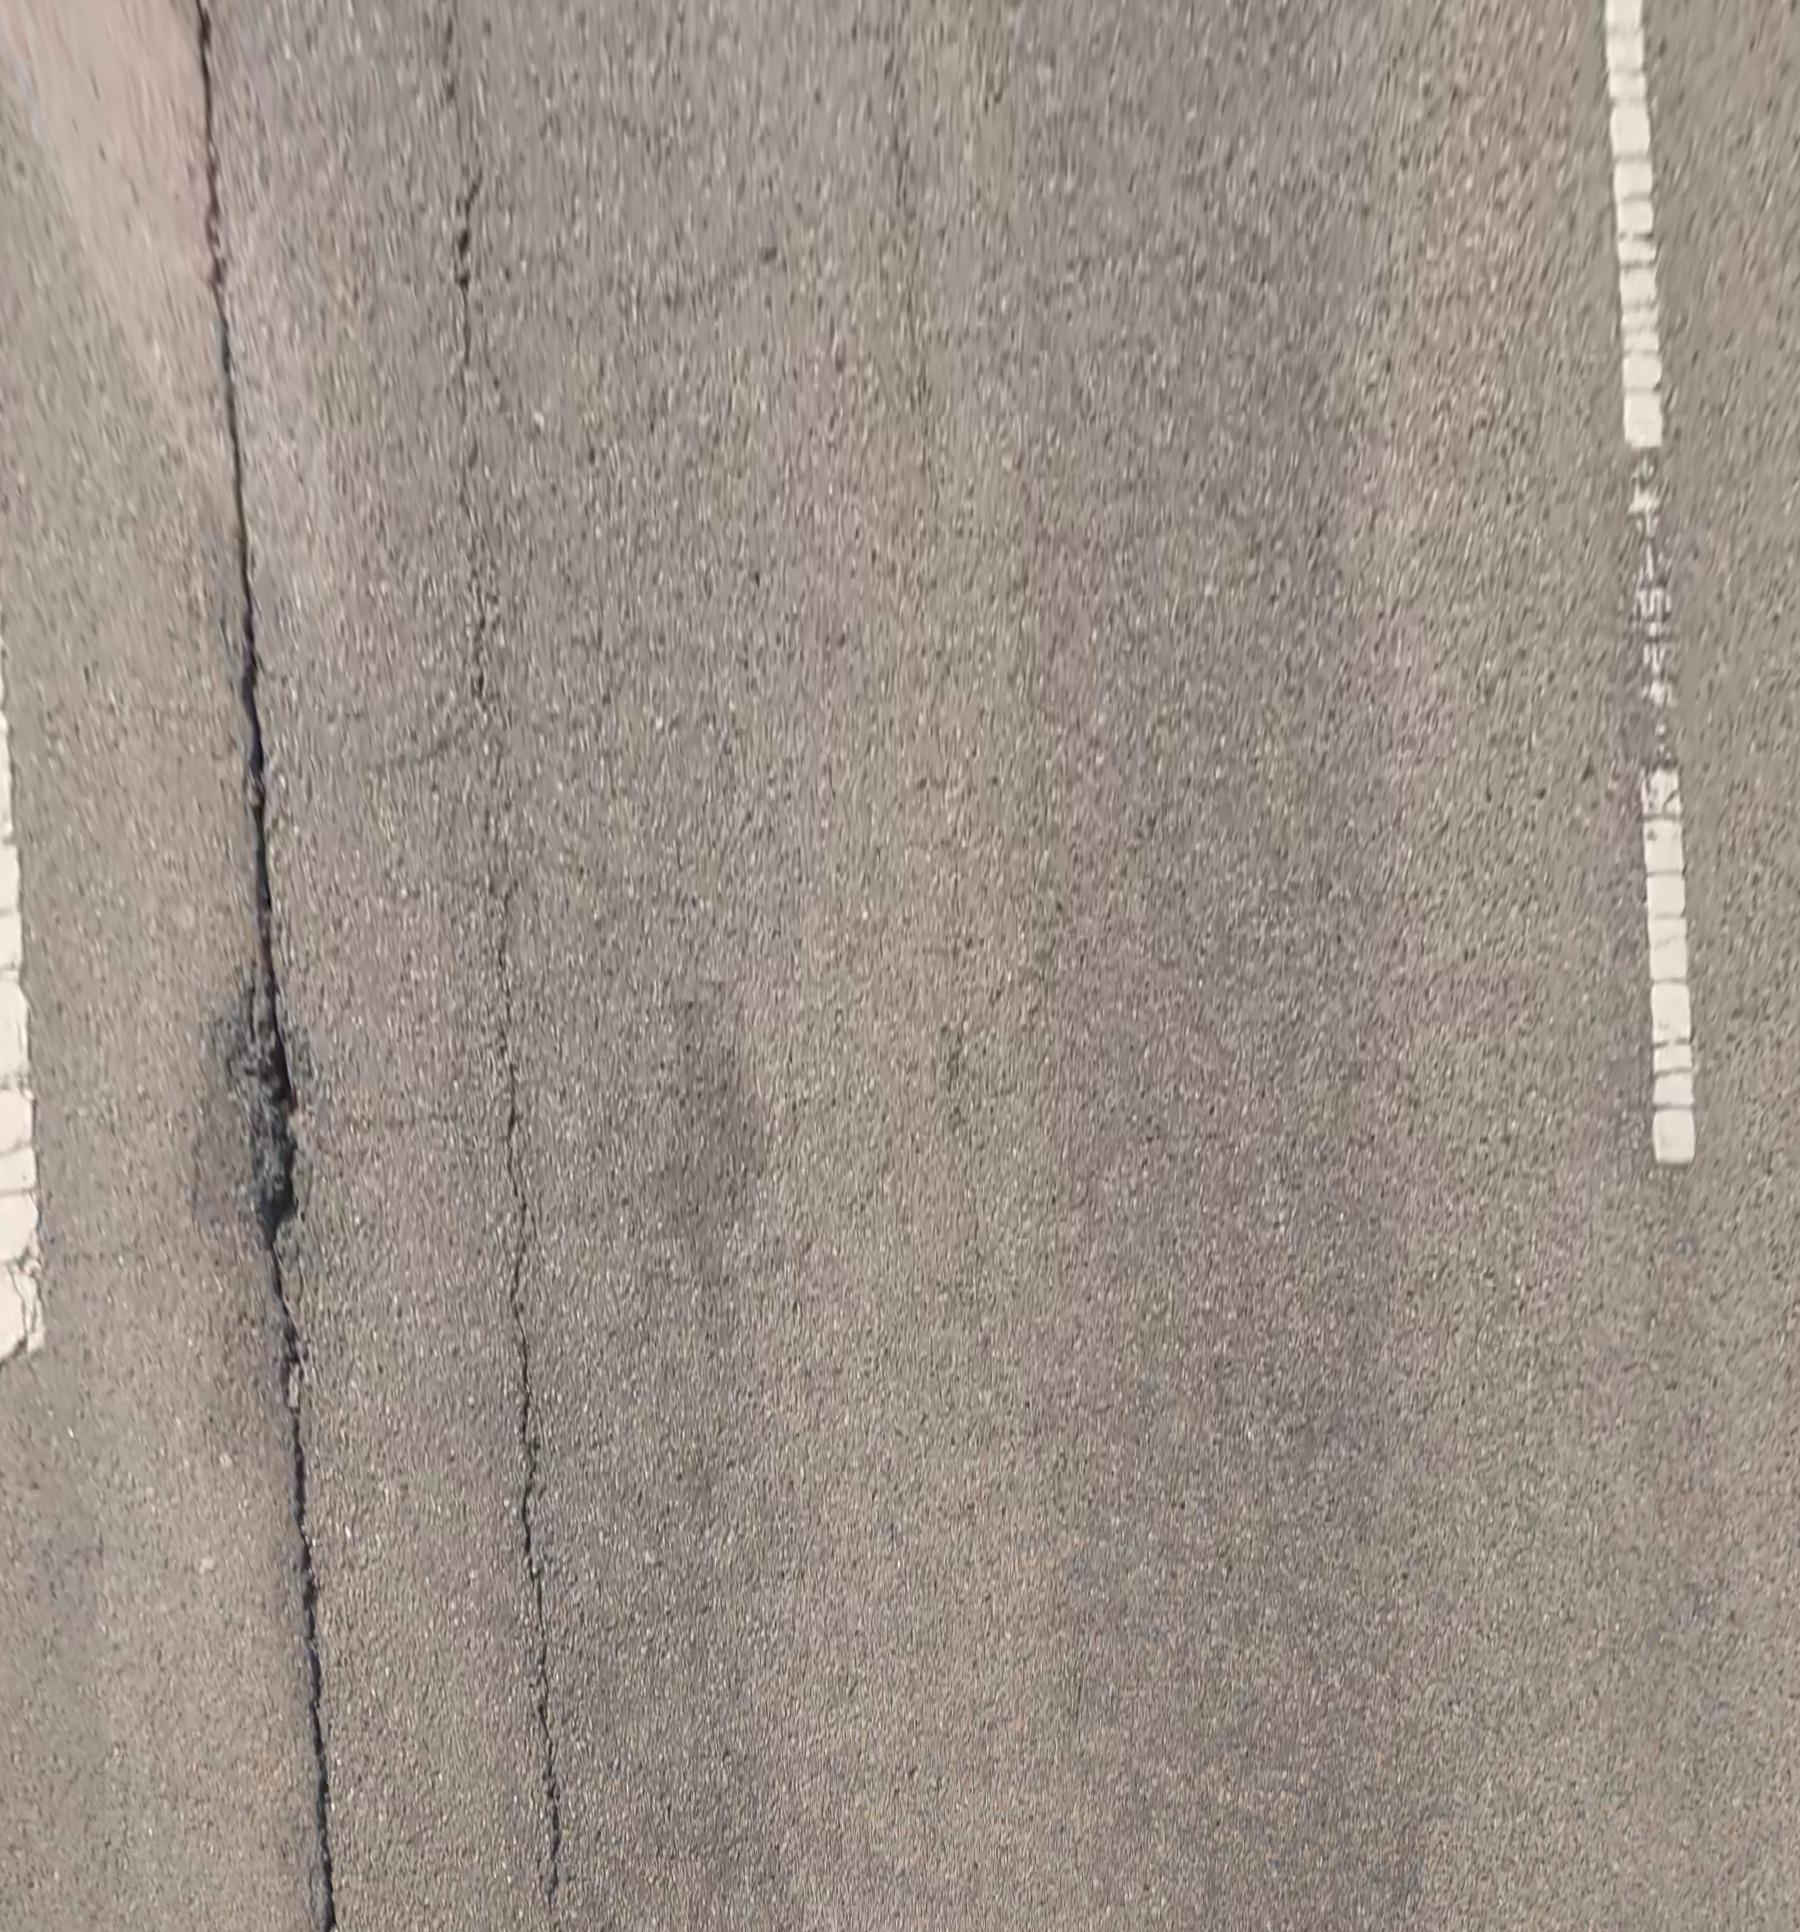pothole: (186, 966, 294, 1255)
